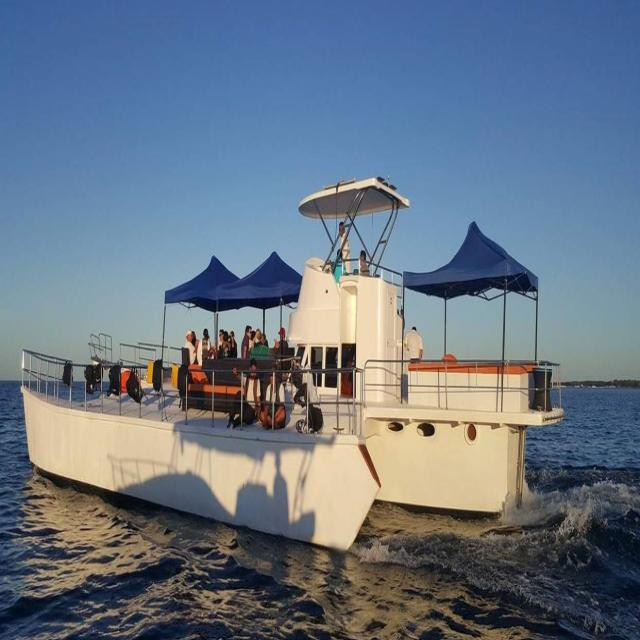houseboat: (8, 152, 547, 549)
